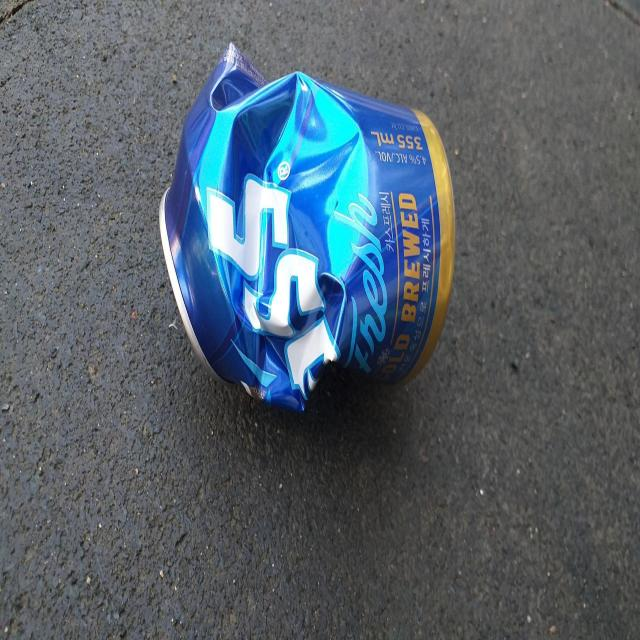can: (159, 41, 455, 411)
